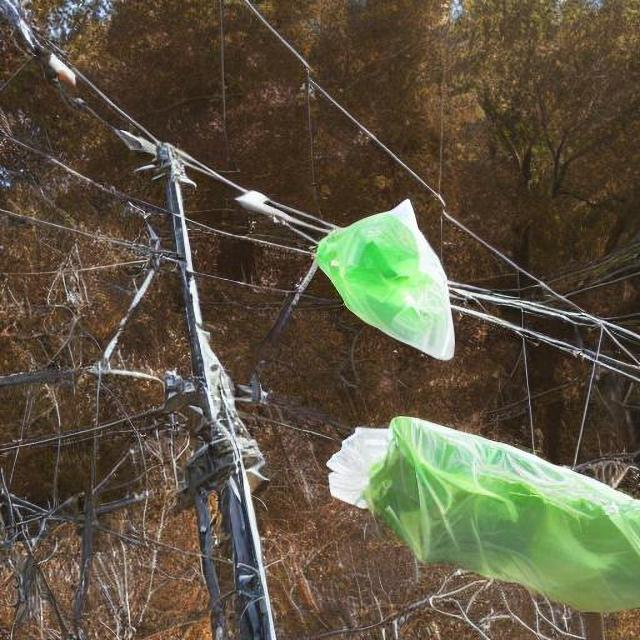plastic bag: (301, 410, 639, 628), (314, 199, 471, 363)
